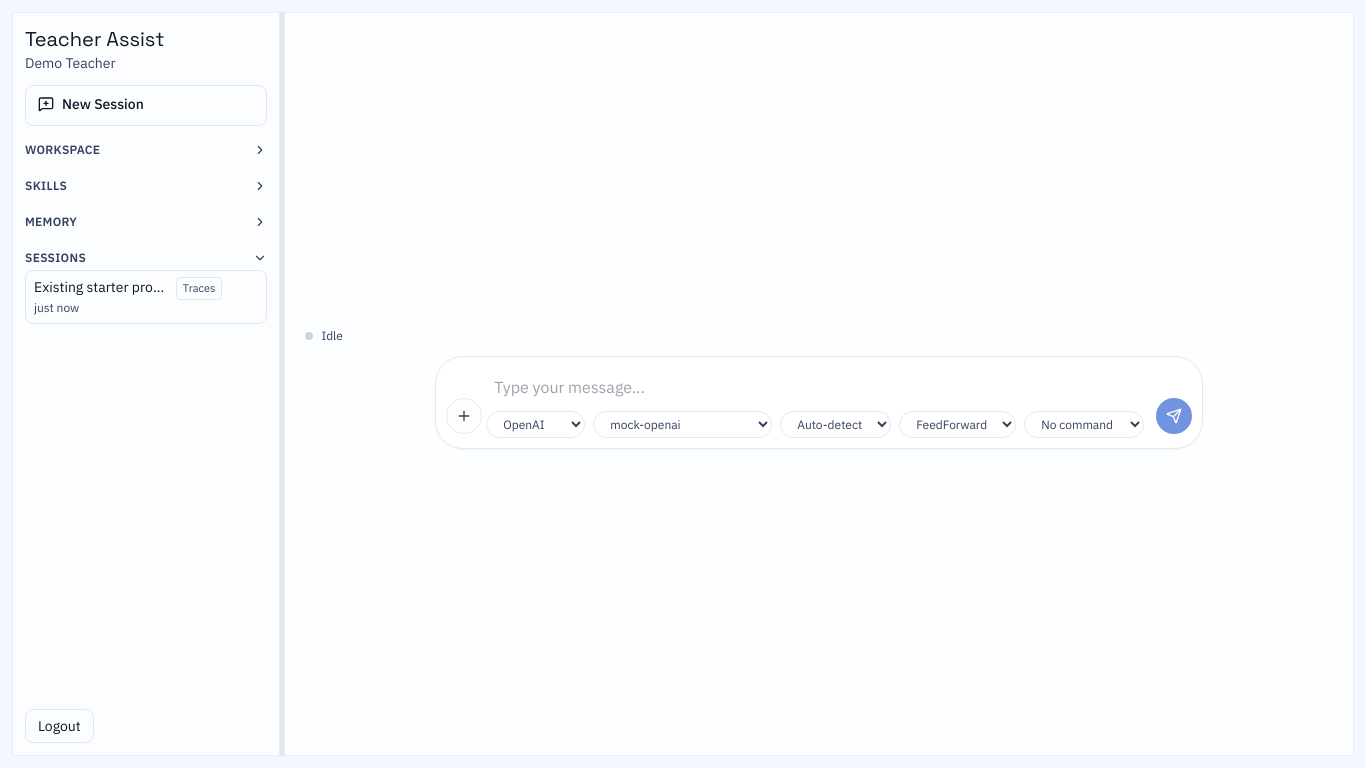
it: App sessions › resumes a session when selected
expect the text "Existing starter prompt" is shown: met, box [34, 277, 168, 297]
Click the button "Existing starter prompt just now": (101, 297) [34, 277, 168, 317]
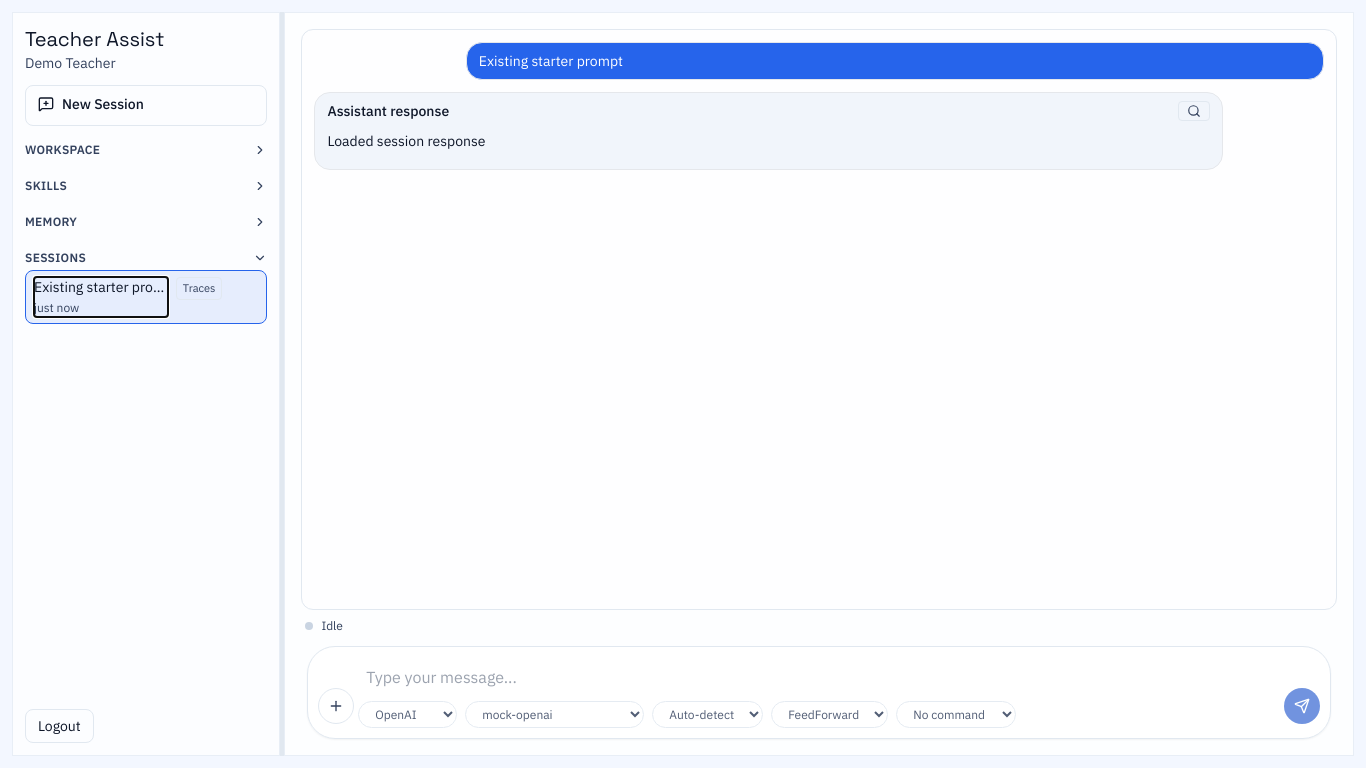
expect the text "Loaded session response" is shown: met, box [327, 132, 486, 150]
